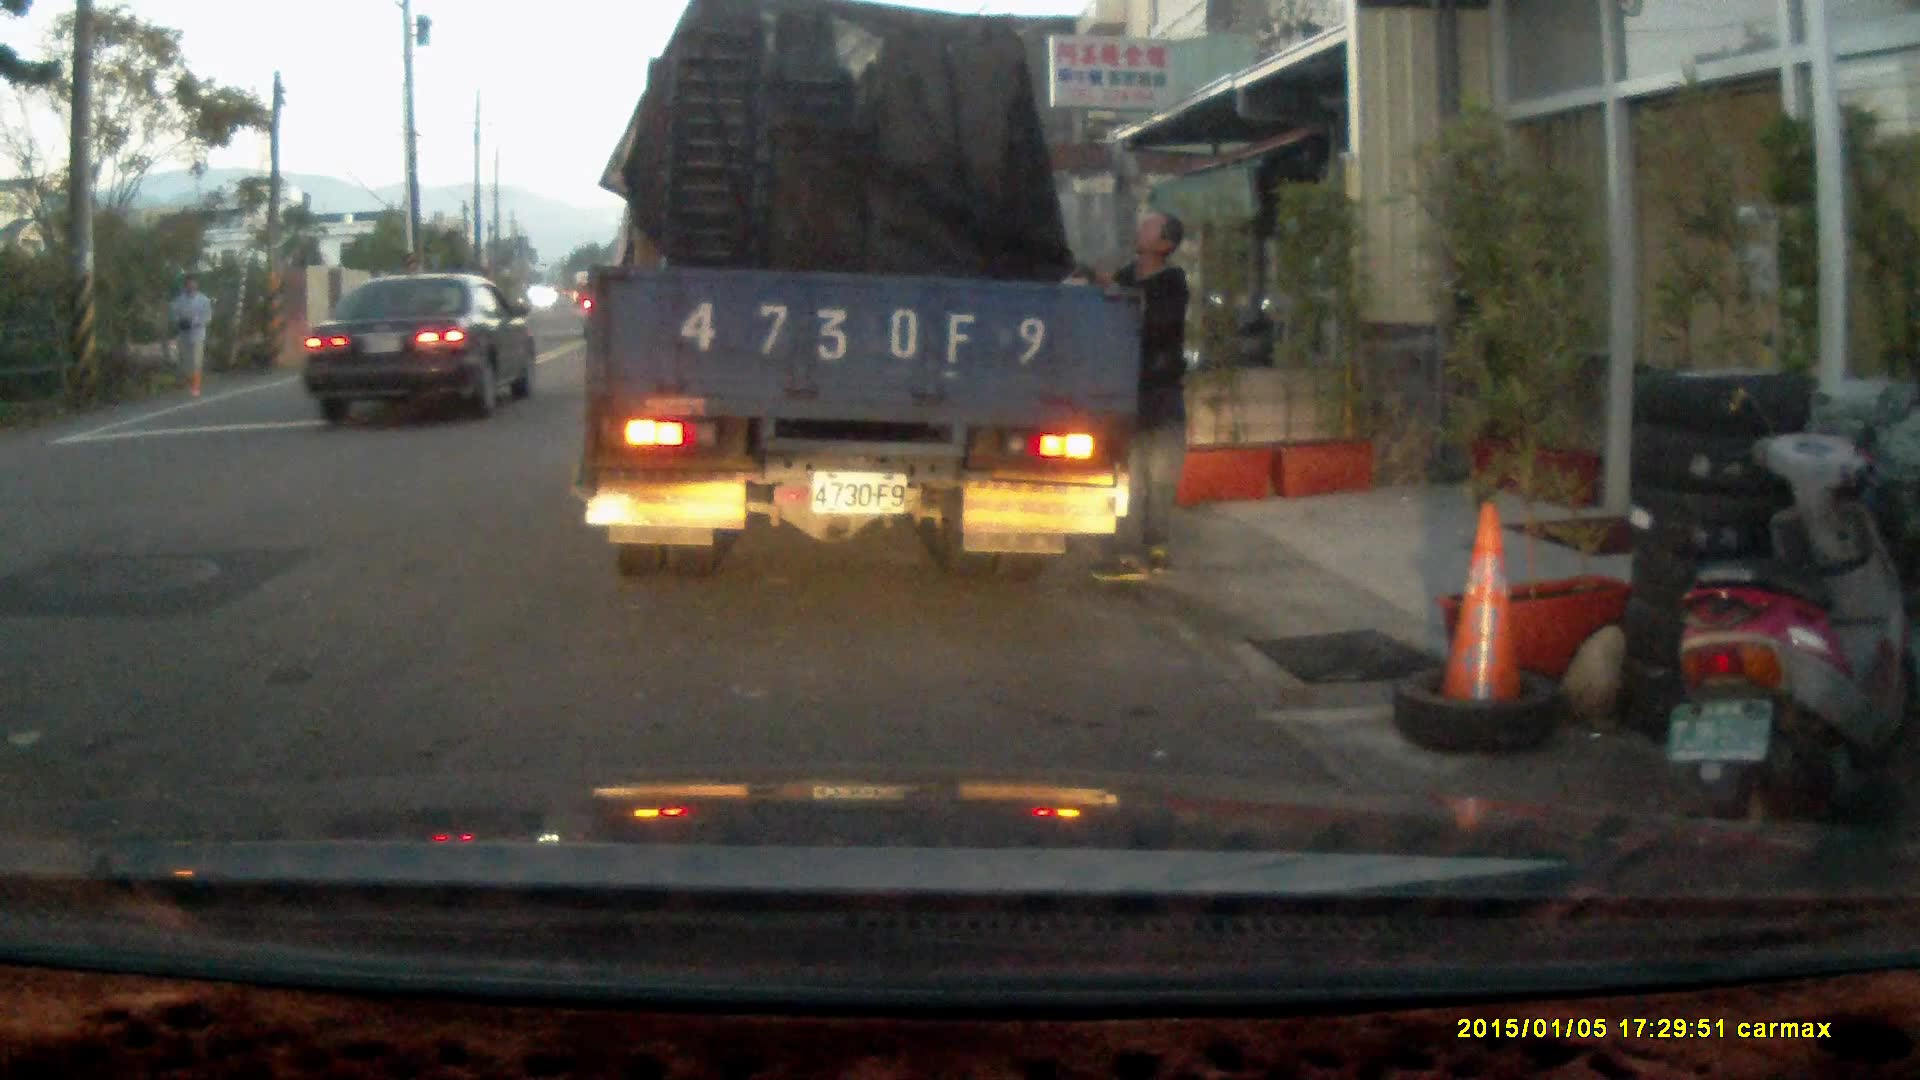pedestrian: (1072, 206, 1192, 581), (166, 272, 212, 402)
vehicle: (586, 23, 1140, 572), (301, 270, 539, 429)
